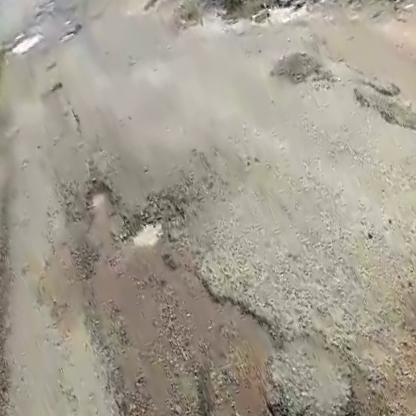pothole: (115, 196, 189, 265), (74, 173, 122, 222), (5, 27, 47, 58)
